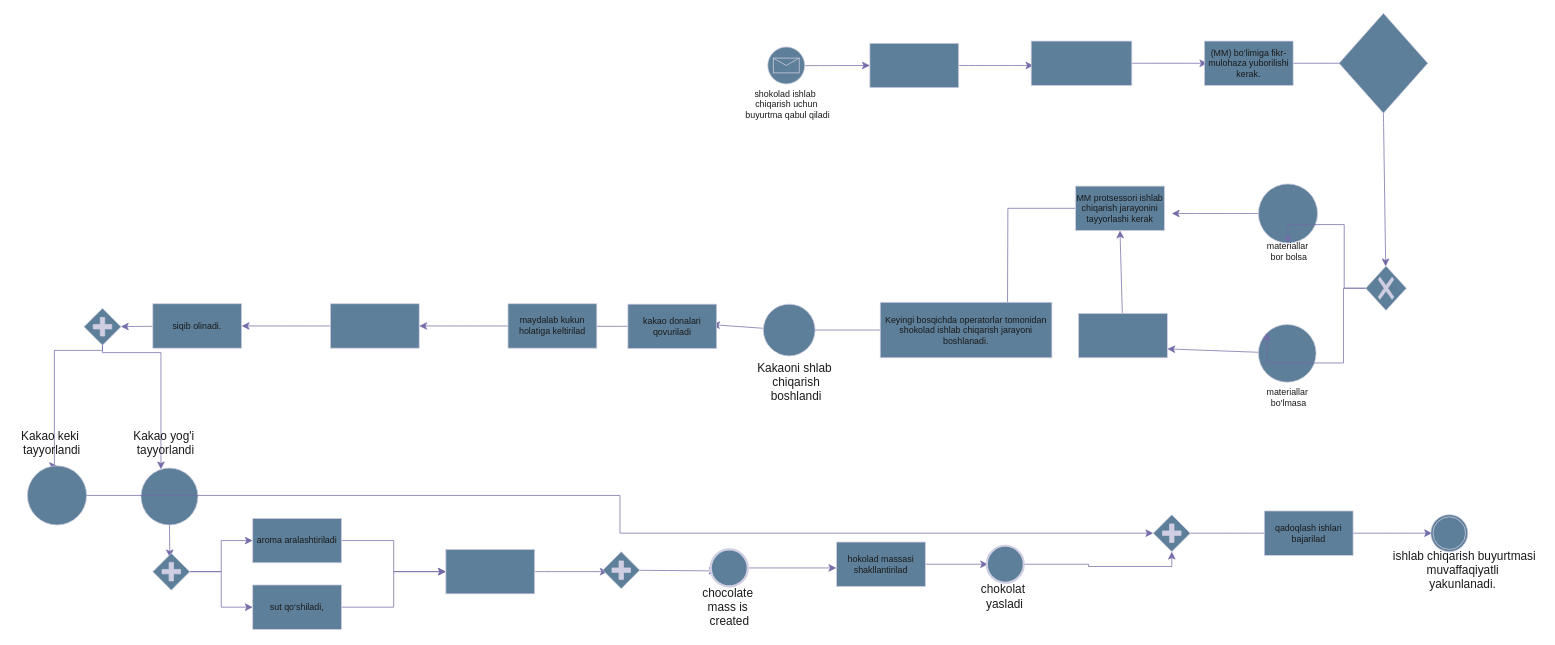
This 1555x645 diagram has some shape labels left out. Each missing label, with the centre of its shape:
kakao massasi tayyorlanadi: the point at 374,325
mavjudligini (materiallar mavjudligi hujjati asosida) tekshiradi: the point at 1383,63
retsepti boshqarilishi: the point at 1081,62
ridor tomonidan buyurtma berilishi kerak: the point at 1122,335
SAP tizimida buyurtmani ro‘yxatdan o‘tkazishi: the point at 914,65
so‘ng shokolad massasi hosil qilinadi: the point at 490,571
